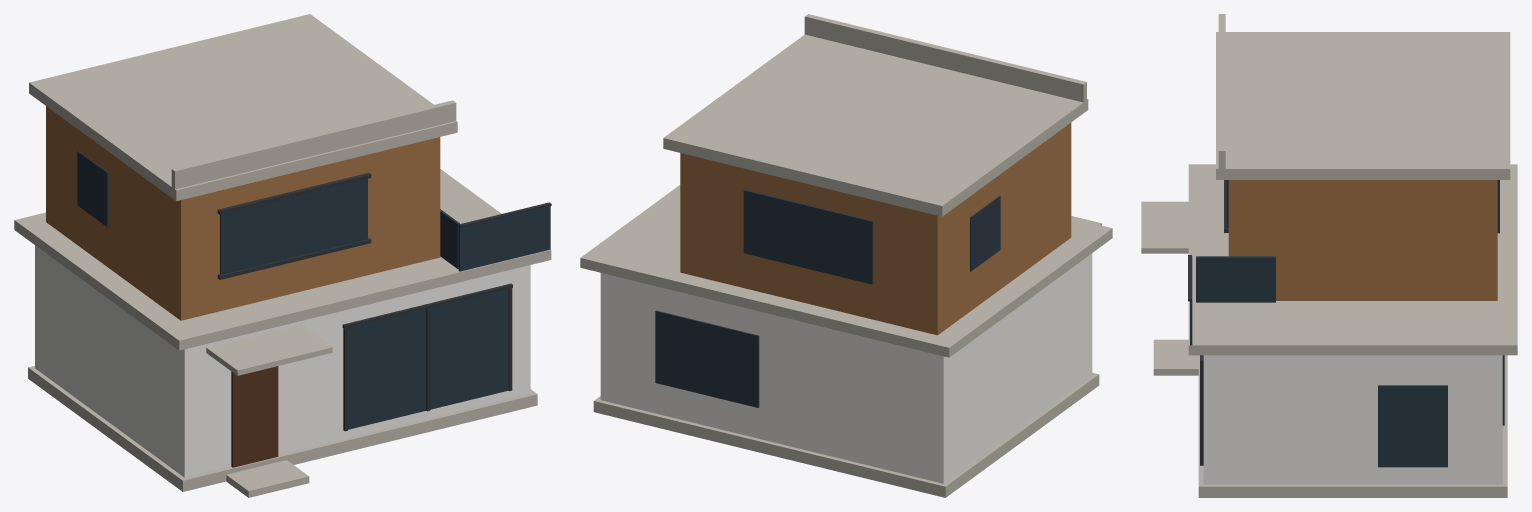
File: house_modern_01.glb
3 views of the same model, side by side, from view 1: azimuth 30°, elevation 25°; view 2: azimuth 150°, elevation 25°; view 3: azimuth 270°, elevation 25° (orthographic).
Visible parts, largest first — view 1: house_modern_01_concrete, house_modern_01_wood (×2), house_modern_01_plaster, house_modern_01_glass, house_modern_01_metal; view 2: house_modern_01_concrete, house_modern_01_plaster, house_modern_01_wood, house_modern_01_glass; view 3: house_modern_01_concrete, house_modern_01_plaster, house_modern_01_wood, house_modern_01_glass, house_modern_01_metal.
Part boxes in pixels (x1,y1,x2,y2): house_modern_01_concrete: (14, 14, 551, 497); house_modern_01_wood (×2): (46, 106, 440, 467); house_modern_01_plaster: (35, 245, 530, 477); house_modern_01_glass: (77, 151, 550, 429); house_modern_01_metal: (217, 172, 551, 431); house_modern_01_concrete: (580, 14, 1112, 497); house_modern_01_plaster: (600, 253, 1092, 483); house_modern_01_wood: (680, 122, 1071, 335); house_modern_01_glass: (655, 189, 1000, 407); house_modern_01_concrete: (1141, 14, 1517, 497); house_modern_01_plaster: (1203, 355, 1502, 484); house_modern_01_wood: (1228, 180, 1497, 300); house_modern_01_glass: (1190, 180, 1504, 467); house_modern_01_metal: (1188, 180, 1228, 465).
Bounding box in the file's own units: 8.6 × 6.91 × 7.55.
